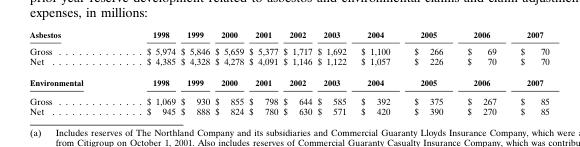table: (29, 29, 548, 116)
table column: (29, 29, 114, 116), (114, 29, 177, 116), (401, 29, 454, 116), (454, 29, 507, 116), (353, 29, 401, 116), (507, 29, 548, 116), (314, 29, 353, 116), (279, 29, 314, 116), (177, 29, 211, 116), (211, 29, 245, 116), (245, 29, 279, 116)
table column header: (29, 29, 548, 42)
table row: (29, 72, 548, 91), (29, 55, 548, 72), (29, 91, 548, 105), (29, 29, 548, 42), (29, 42, 548, 55), (29, 105, 548, 116)
